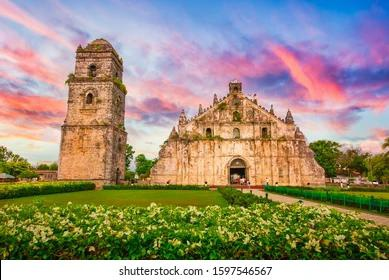paoay_church_paoay_ilocos_norte: (50, 31, 327, 198)
